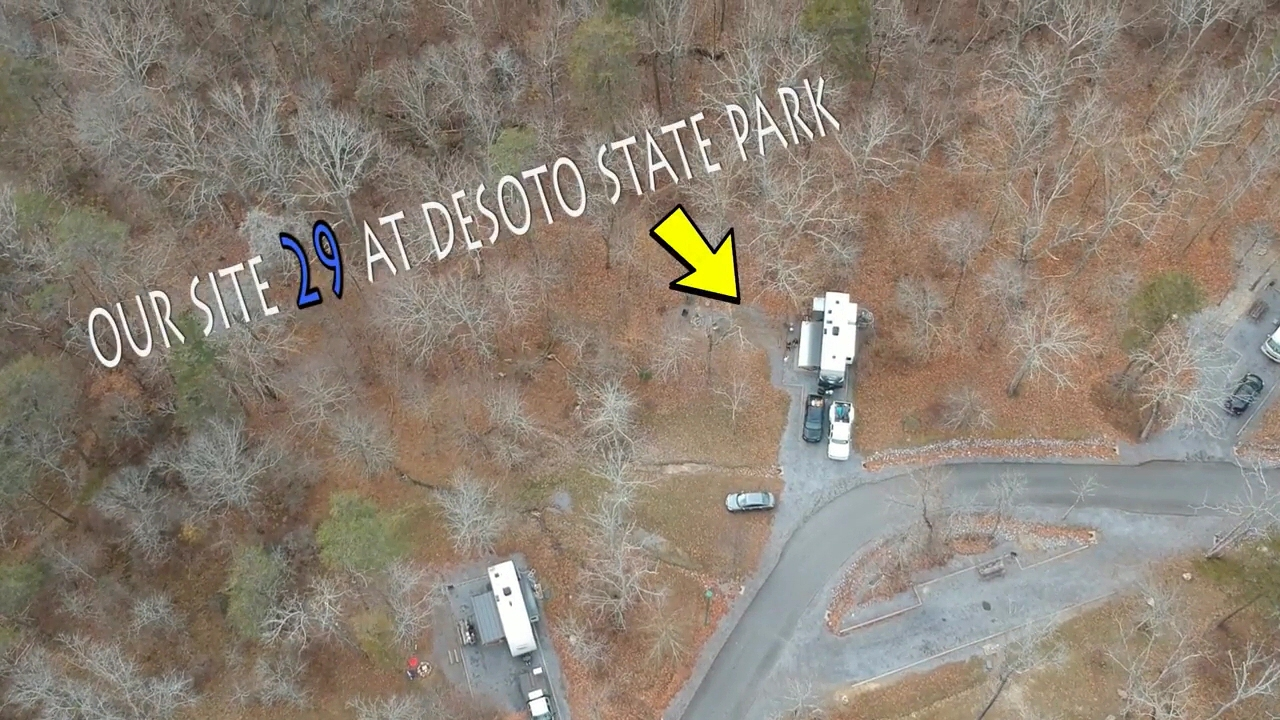araba: (1223, 371, 1267, 418), (799, 389, 831, 444), (724, 486, 780, 517), (1261, 318, 1280, 364)
kamyonet: (823, 395, 859, 460)
